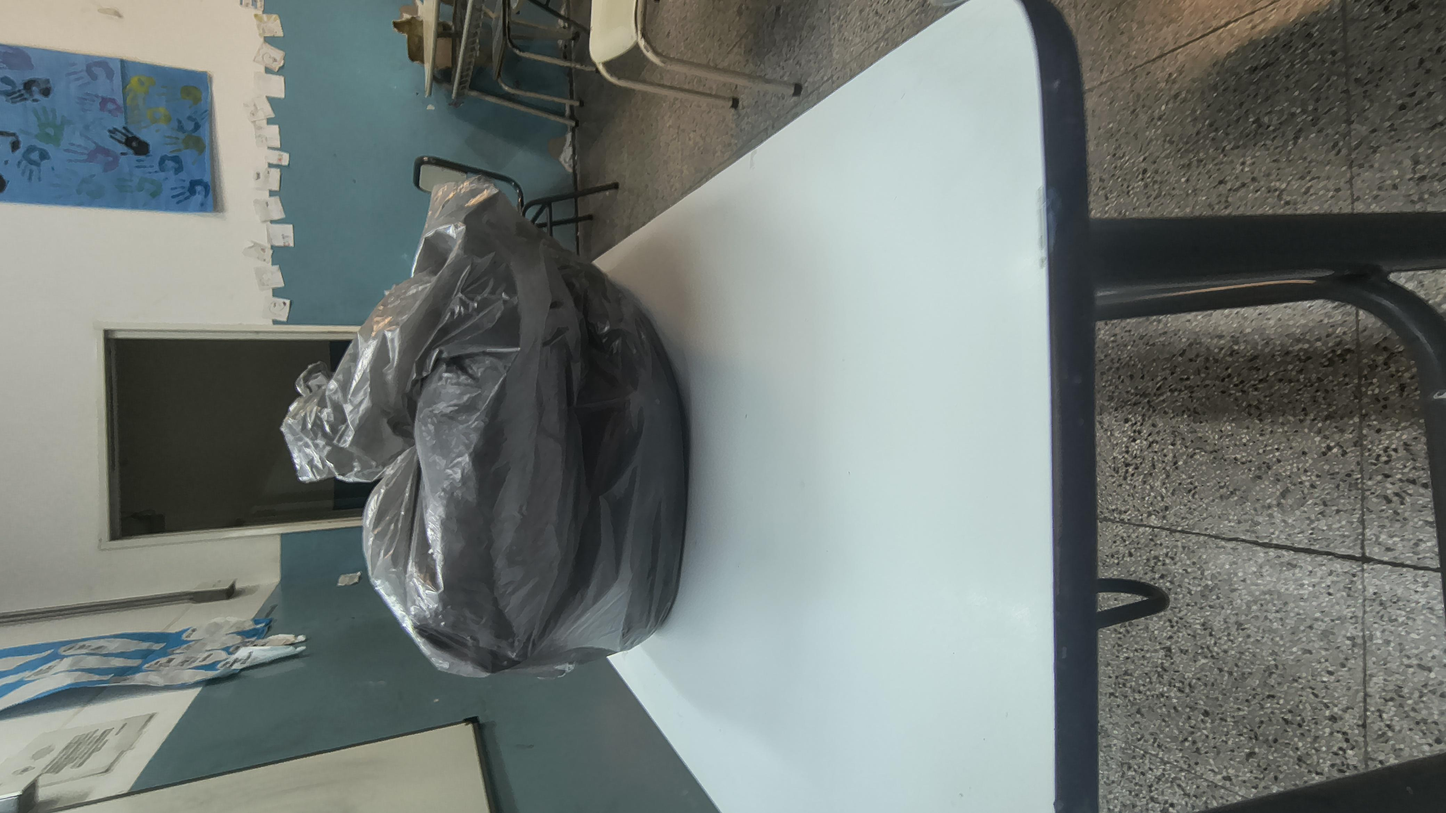Garbage: (198, 137, 1193, 397)
